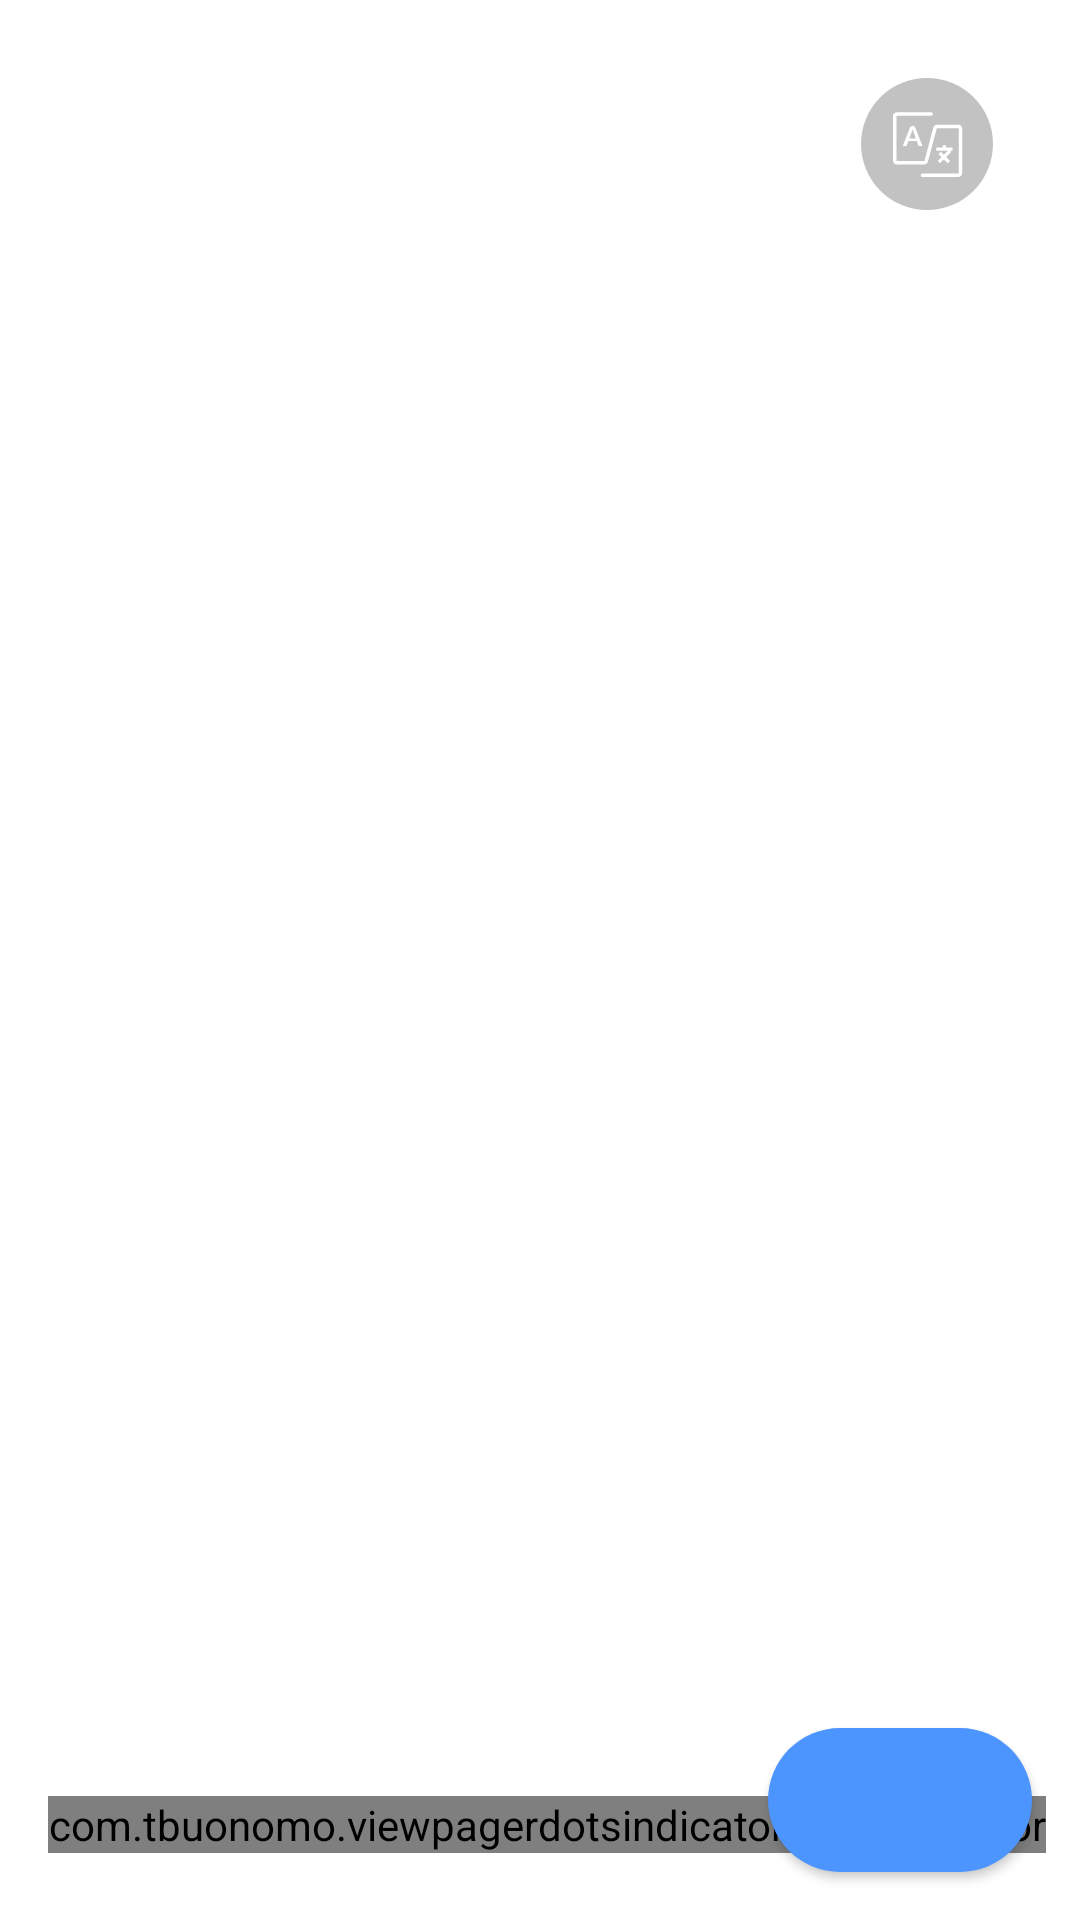

Point at icon controls on the screen. Image size 1080×1920, points as (x,y).
translate: (927,144)
